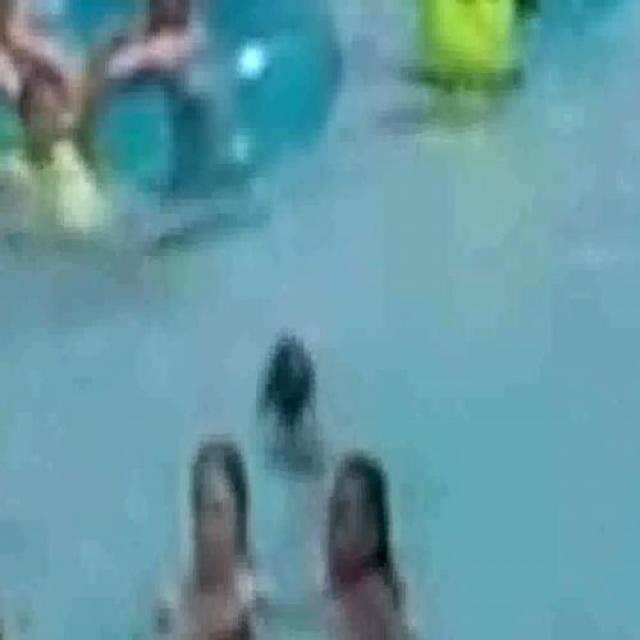drowning: (248, 320, 333, 465)
swimming: (0, 55, 95, 221), (107, 0, 237, 105), (181, 445, 250, 639), (330, 467, 402, 640)
